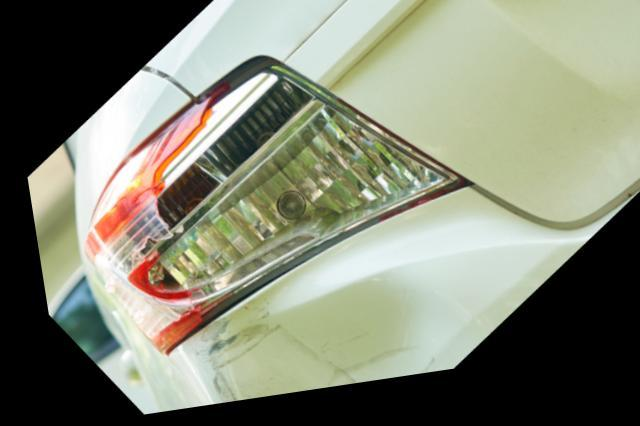dent: (196, 286, 475, 408)
lamp broken: (74, 62, 469, 359)
